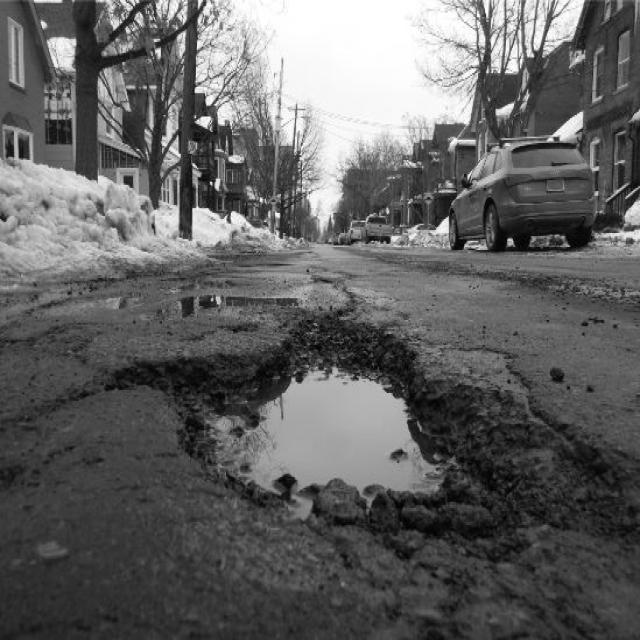pothole: (144, 306, 558, 558)
